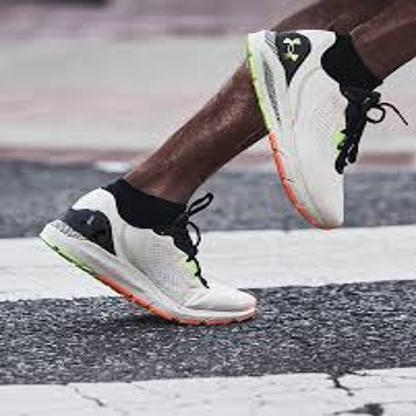not trash: (40, 182, 258, 326), (242, 23, 361, 230)
